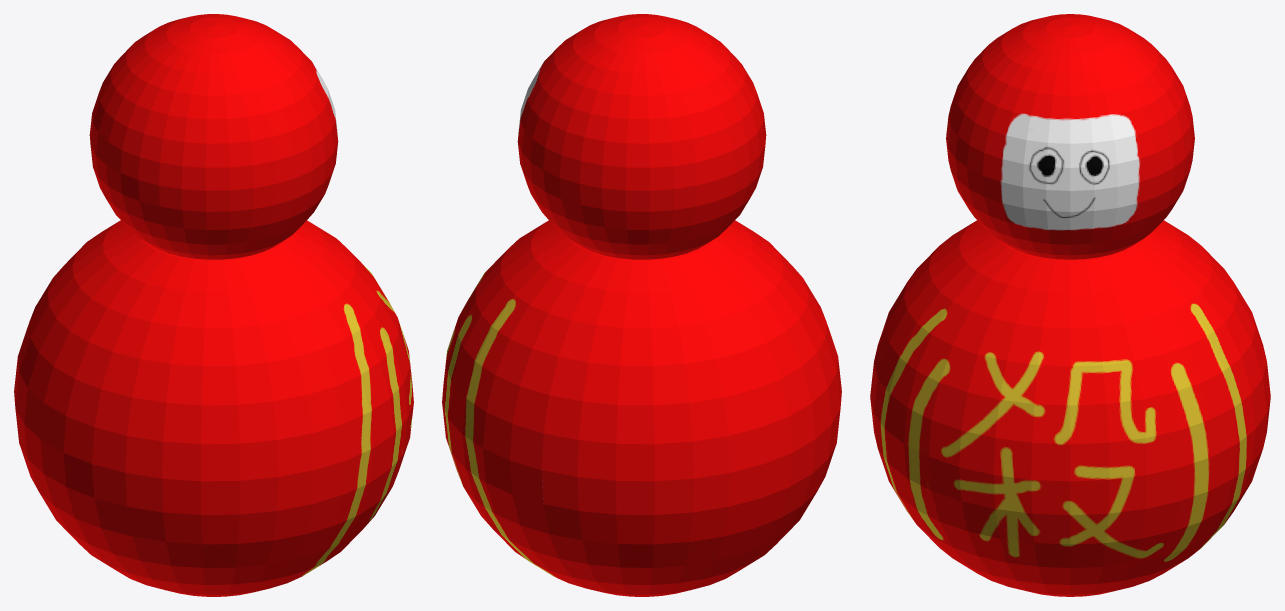
File: boss.obj
3 views of the same model, side by side, from view 1: azimuth 30°, elevation 25°; view 2: azimuth 150°, elevation 25°; view 3: azimuth 270°, elevation 25° (orthographic).
Visible parts, largest first — view 1: 球.001; view 2: 球.001; view 3: 球.001.
Boxes of the visible parts, box(x1,y1,x2,y2) form: 球.001: box(14, 14, 413, 596); 球.001: box(442, 14, 841, 596); 球.001: box(870, 14, 1270, 596).
Size of the model in its own units: 3.22 by 4.9 by 3.22.
Materials: 1 (1 with a texture image).
